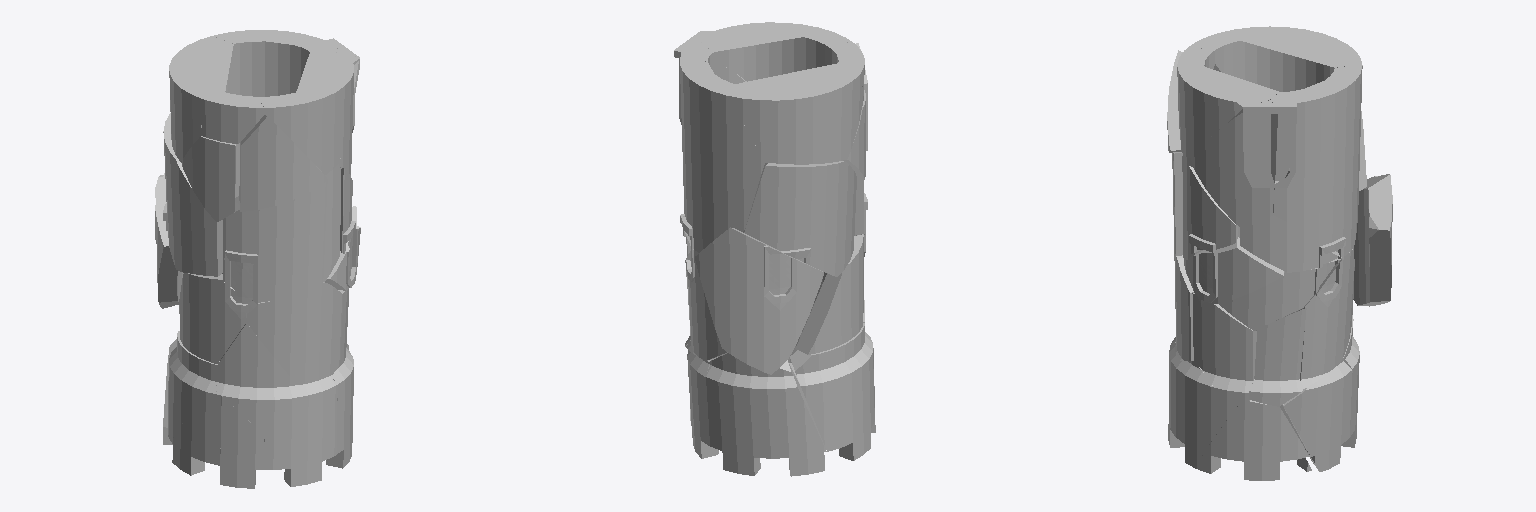
Rendered from destruction_tower_000019.obj.
3 renders of one model, left to right at view 1: azimuth 30°, elevation 25°; view 2: azimuth 150°, elevation 25°; view 3: azimuth 270°, elevation 25°, orthographic.
Visible parts, largest first — view 1: tower.001_cell.024_Mesh.024, tower.001_cell.021_Mesh.021, tower.001_cell.028_Mesh.028, tower.001_cell.006_Mesh.006, tower.001_cell.011_Mesh.011, tower.001_cell.002_Mesh.002, tower.001_cell.013_Mesh.013, tower.001_cell.003_Mesh.003, tower.001_cell.015_Mesh.015, tower.001_cell.009_Mesh.009, tower.001_cell.017_Mesh.017, tower.001_cell.014_Mesh.014 (+9 smaller); view 2: tower.001_cell.025_Mesh.025, tower.001_cell.017_Mesh.017, tower.001_cell.007_Mesh.007, tower.001_cell.015_Mesh.015, tower.001_cell.003_Mesh.003, tower.001_cell.005_Mesh.005, tower.001_cell.028_Mesh.028, tower.001_cell.009_Mesh.009, tower.001_cell.012_Mesh.012, tower.001_cell.029_Mesh.029, tower.001_cell.006_Mesh.006, tower.001_cell.026_Mesh.026 (+3 smaller); view 3: tower.001_cell.017_Mesh.017, tower.001_cell.020_Mesh.020, tower.001_cell.015_Mesh.015, tower.001_cell.028_Mesh.028, tower.001_cell.030_Mesh.030, tower.001_cell_Mesh, tower.001_cell.012_Mesh.012, tower.001_cell.029_Mesh.029, tower.001_cell.025_Mesh.025, tower.001_cell.016_Mesh.016, tower.001_cell.010_Mesh.010, tower.001_cell.023_Mesh.023 (+11 smaller).
Part boxes in pixels (x1,y1,x2,y2): tower.001_cell.024_Mesh.024: (223, 179, 327, 303); tower.001_cell.021_Mesh.021: (246, 282, 342, 387); tower.001_cell.028_Mesh.028: (257, 52, 359, 174); tower.001_cell.006_Mesh.006: (172, 391, 264, 488); tower.001_cell.011_Mesh.011: (264, 378, 337, 486); tower.001_cell.002_Mesh.002: (239, 115, 326, 211); tower.001_cell.013_Mesh.013: (216, 323, 298, 435); tower.001_cell.003_Mesh.003: (163, 113, 222, 276); tower.001_cell.015_Mesh.015: (169, 36, 233, 161); tower.001_cell.009_Mesh.009: (179, 273, 246, 363); tower.001_cell.017_Mesh.017: (214, 30, 318, 197); tower.001_cell.014_Mesh.014: (181, 136, 235, 221); tower.001_cell.025_Mesh.025: (695, 227, 823, 374); tower.001_cell.017_Mesh.017: (680, 56, 767, 252); tower.001_cell.007_Mesh.007: (706, 353, 826, 476); tower.001_cell.015_Mesh.015: (730, 63, 862, 164); tower.001_cell.003_Mesh.003: (744, 161, 856, 276); tower.001_cell.005_Mesh.005: (790, 323, 872, 451); tower.001_cell.028_Mesh.028: (700, 22, 849, 81); tower.001_cell.009_Mesh.009: (795, 234, 865, 354); tower.001_cell.012_Mesh.012: (685, 249, 727, 360); tower.001_cell.029_Mesh.029: (687, 350, 715, 458); tower.001_cell.006_Mesh.006: (839, 344, 875, 460); tower.001_cell.026_Mesh.026: (674, 44, 723, 124); tower.001_cell.017_Mesh.017: (1303, 64, 1362, 258); tower.001_cell.020_Mesh.020: (1191, 100, 1277, 227); tower.001_cell.015_Mesh.015: (1240, 26, 1361, 91); tower.001_cell.028_Mesh.028: (1177, 47, 1278, 157); tower.001_cell.030_Mesh.030: (1195, 400, 1309, 480); tower.001_cell_Mesh: (1192, 293, 1256, 401); tower.001_cell.012_Mesh.012: (1297, 248, 1354, 388); tower.001_cell.029_Mesh.029: (1283, 358, 1352, 471); tower.001_cell.025_Mesh.025: (1353, 174, 1392, 306); tower.001_cell.016_Mesh.016: (1249, 308, 1306, 406); tower.001_cell.010_Mesh.010: (1184, 237, 1283, 304); tower.001_cell.023_Mesh.023: (1178, 360, 1240, 467).
Bounding box in the file's own units: 45.82 × 97.11 × 52.07.